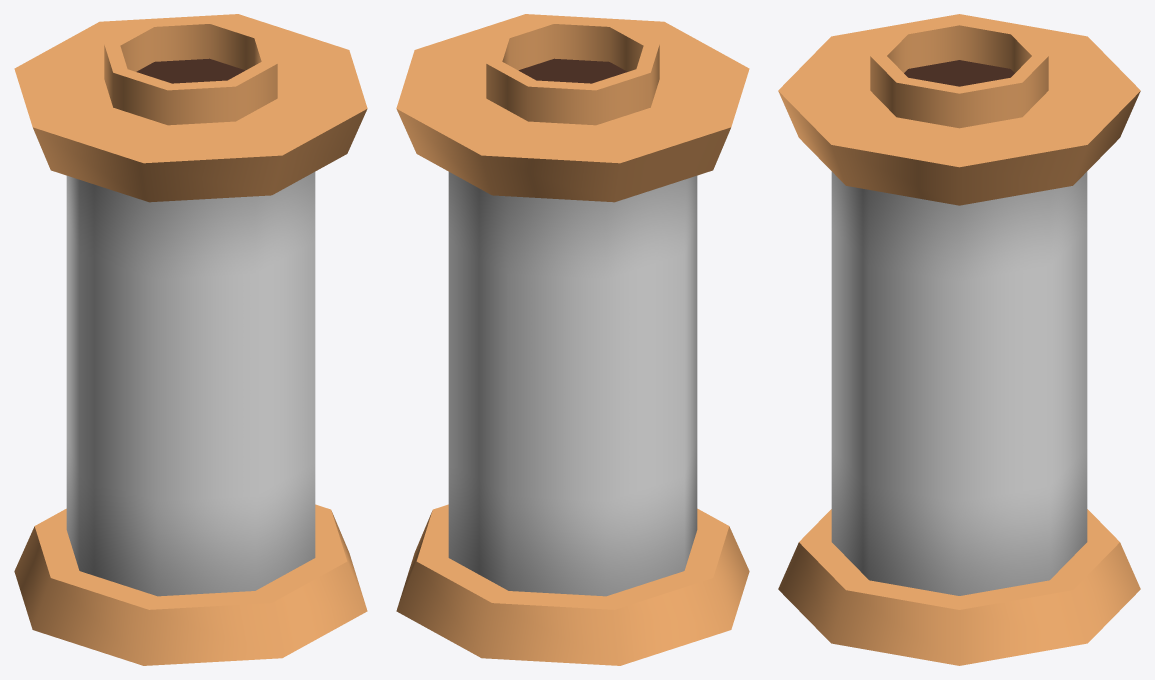
Rendered from spool-3.fbx.
The picture shows the model from 3 angles, left to right: view 1: azimuth 30°, elevation 25°; view 2: azimuth 150°, elevation 25°; view 3: azimuth 270°, elevation 25°; orthographic projection.
Parts seen in each view (by area): view 1: spool-3; view 2: spool-3; view 3: spool-3.
Boxes of the visible parts, left/top/right/bottom form: spool-3: left=14, top=14, right=367, bottom=665; spool-3: left=396, top=14, right=749, bottom=665; spool-3: left=778, top=14, right=1140, bottom=665.
Bounding box in the file's own units: 6.56 × 11.32 × 6.56.
2 materials, 2 textured.
